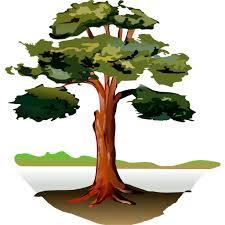tree: (8, 1, 196, 207)
